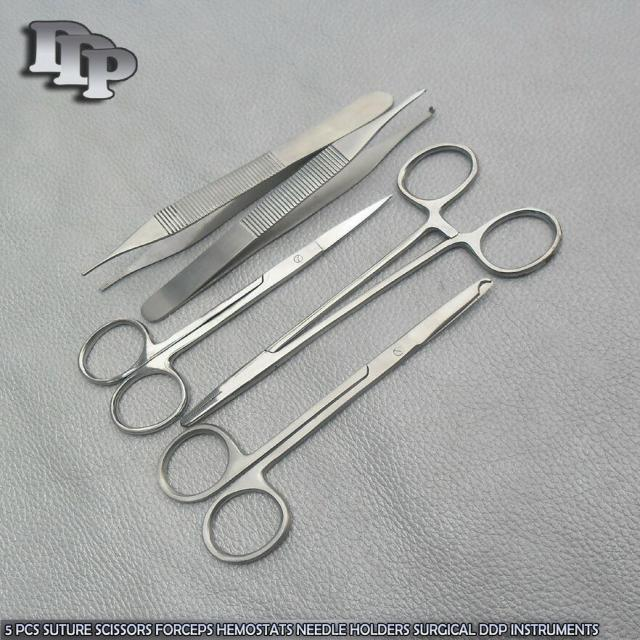Forceps: (136, 82, 442, 328), (77, 86, 402, 298)
Iris: (73, 190, 399, 440)
Mayo_metz: (152, 273, 500, 570)
